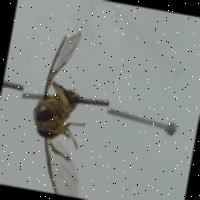Oriental-fruit-fly: (5, 12, 121, 200)
